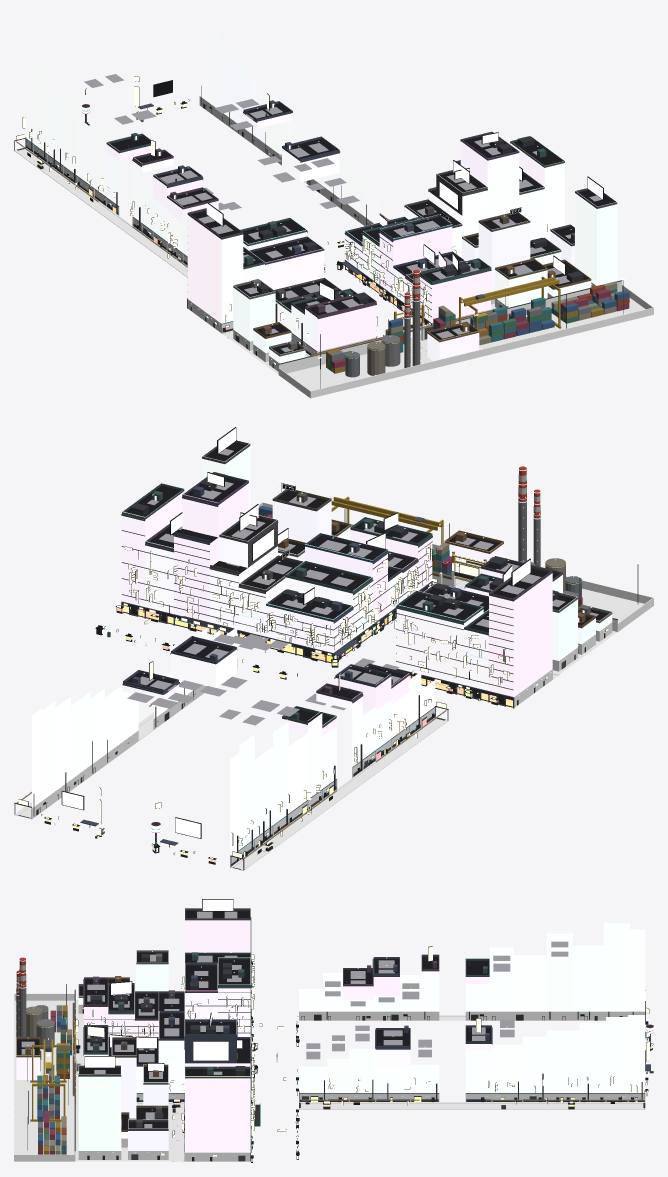
The model's file is world-phone-south.glb.
The picture shows the model from 3 angles, top to bottom: view 1: azimuth 30°, elevation 25°; view 2: azimuth 150°, elevation 25°; view 3: azimuth 270°, elevation 25°; orthographic projection. The views are drawn at different scales.
Parts seen in each view (by area): view 1: avenue_s_facade, avenue_s_trim, avenue_s_roof, avenue_s_concrete, avenue_s_asphalt, avenue_s_board_frame, avenue_s_metal, avenue_s_sign, avenue_s_billboard, avenue_s_glow, avenue_s_sidewalk; view 2: avenue_s_facade, avenue_s_trim, avenue_s_roof, avenue_s_sign, avenue_s_board_frame, avenue_s_concrete, avenue_s_asphalt, avenue_s_metal, avenue_s_billboard, avenue_s_glow, avenue_s_sidewalk, avenue_s_shop (+1 smaller); view 3: avenue_s_facade, avenue_s_trim, avenue_s_roof, avenue_s_concrete, avenue_s_asphalt, avenue_s_sidewalk, avenue_s_board_frame, avenue_s_billboard, avenue_s_sign, avenue_s_metal, avenue_s_glow, avenue_s_door.
Part boxes in pixels (box(x1,y1,x2,y2)): avenue_s_facade: box(26, 15, 617, 363); avenue_s_trim: box(16, 74, 629, 377); avenue_s_roof: box(110, 103, 613, 354); avenue_s_concrete: box(25, 96, 653, 398); avenue_s_asphalt: box(18, 149, 645, 390); avenue_s_board_frame: box(16, 76, 603, 364); avenue_s_metal: box(14, 86, 623, 388); avenue_s_sign: box(16, 76, 546, 364); avenue_s_billboard: box(82, 107, 602, 300); avenue_s_glow: box(64, 76, 642, 388); avenue_s_sidewalk: box(14, 106, 496, 374); avenue_s_facade: box(32, 446, 612, 856); avenue_s_trim: box(17, 440, 617, 865); avenue_s_roof: box(125, 442, 608, 725); avenue_s_sign: box(18, 545, 608, 858); avenue_s_board_frame: box(18, 427, 607, 859); avenue_s_concrete: box(31, 502, 653, 867); avenue_s_asphalt: box(18, 577, 644, 869); avenue_s_metal: box(14, 472, 638, 870); avenue_s_billboard: box(62, 428, 530, 838); avenue_s_glow: box(102, 440, 640, 832); avenue_s_sidewalk: box(14, 631, 616, 870); avenue_s_shop: box(46, 586, 512, 861); avenue_s_facade: box(16, 920, 645, 1152); avenue_s_trim: box(16, 908, 653, 1161); avenue_s_roof: box(17, 910, 491, 1129); avenue_s_concrete: box(14, 993, 645, 1161); avenue_s_asphalt: box(14, 1000, 643, 1161); avenue_s_sidewalk: box(75, 1000, 645, 1161); avenue_s_board_frame: box(40, 899, 653, 1158); avenue_s_billboard: box(85, 899, 653, 1071); avenue_s_sign: box(76, 946, 653, 1161); avenue_s_metal: box(27, 954, 644, 1150); avenue_s_glow: box(14, 908, 650, 1154); avenue_s_door: box(76, 1009, 652, 1162).
Size of the model in its own units: 176 by 58.63 by 292.
